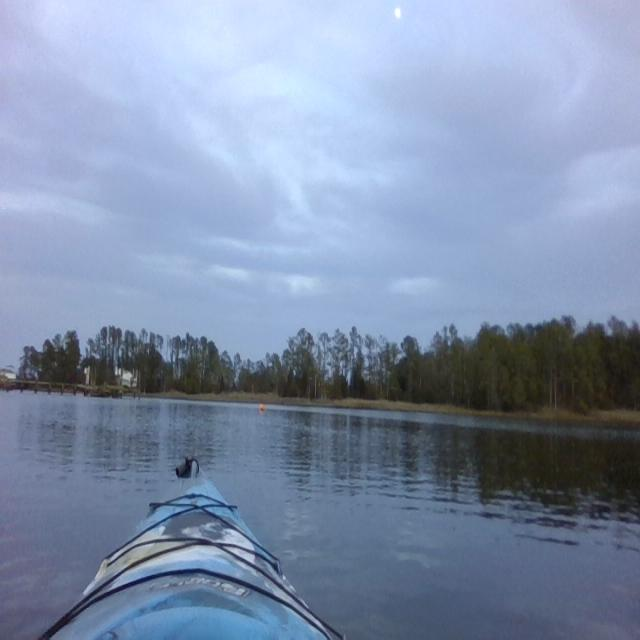Buoy: (258, 401, 266, 413)
